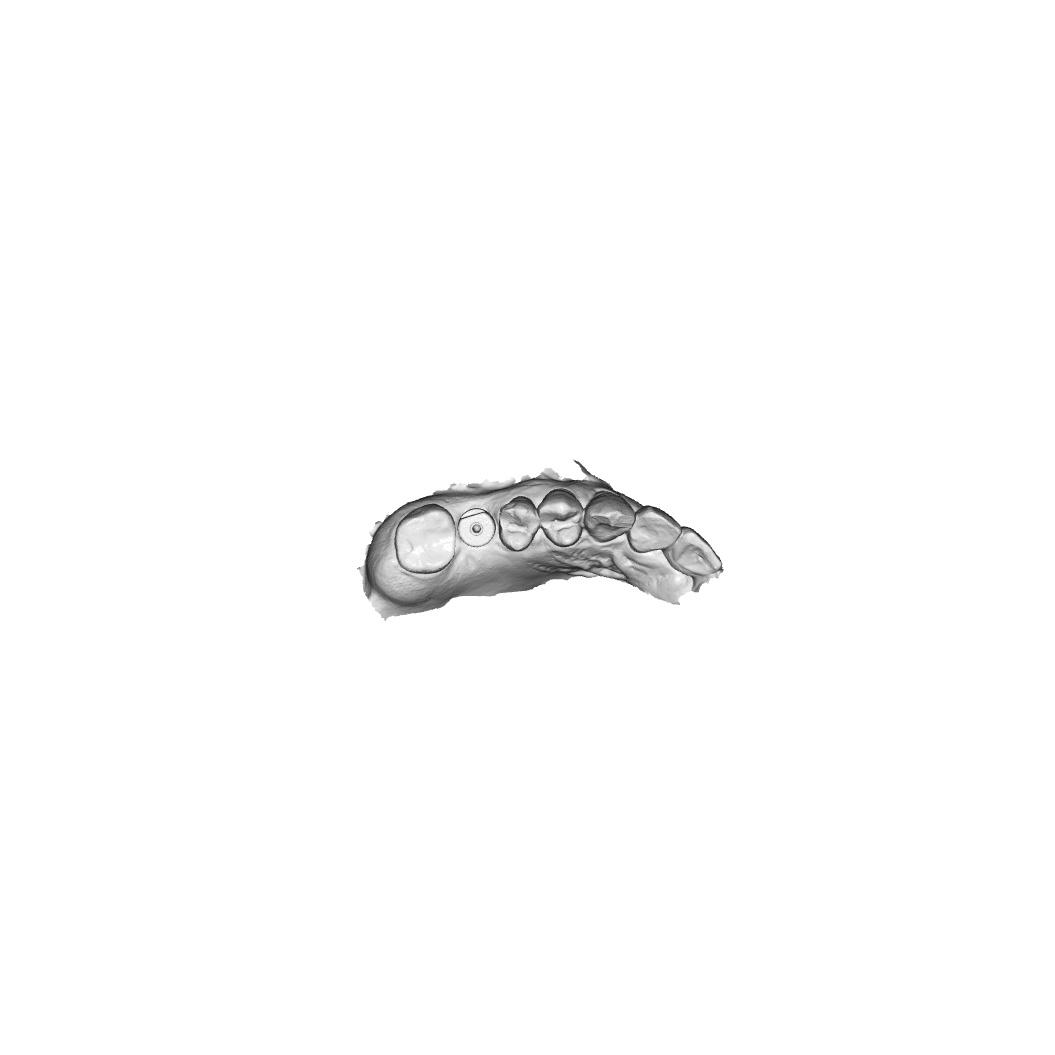canine: (583, 490, 638, 544)
implant: (457, 507, 496, 549)
incisor: (663, 525, 725, 578), (627, 504, 683, 554)
molar: (392, 503, 457, 575)
premolar: (538, 487, 586, 549), (497, 495, 542, 552)
